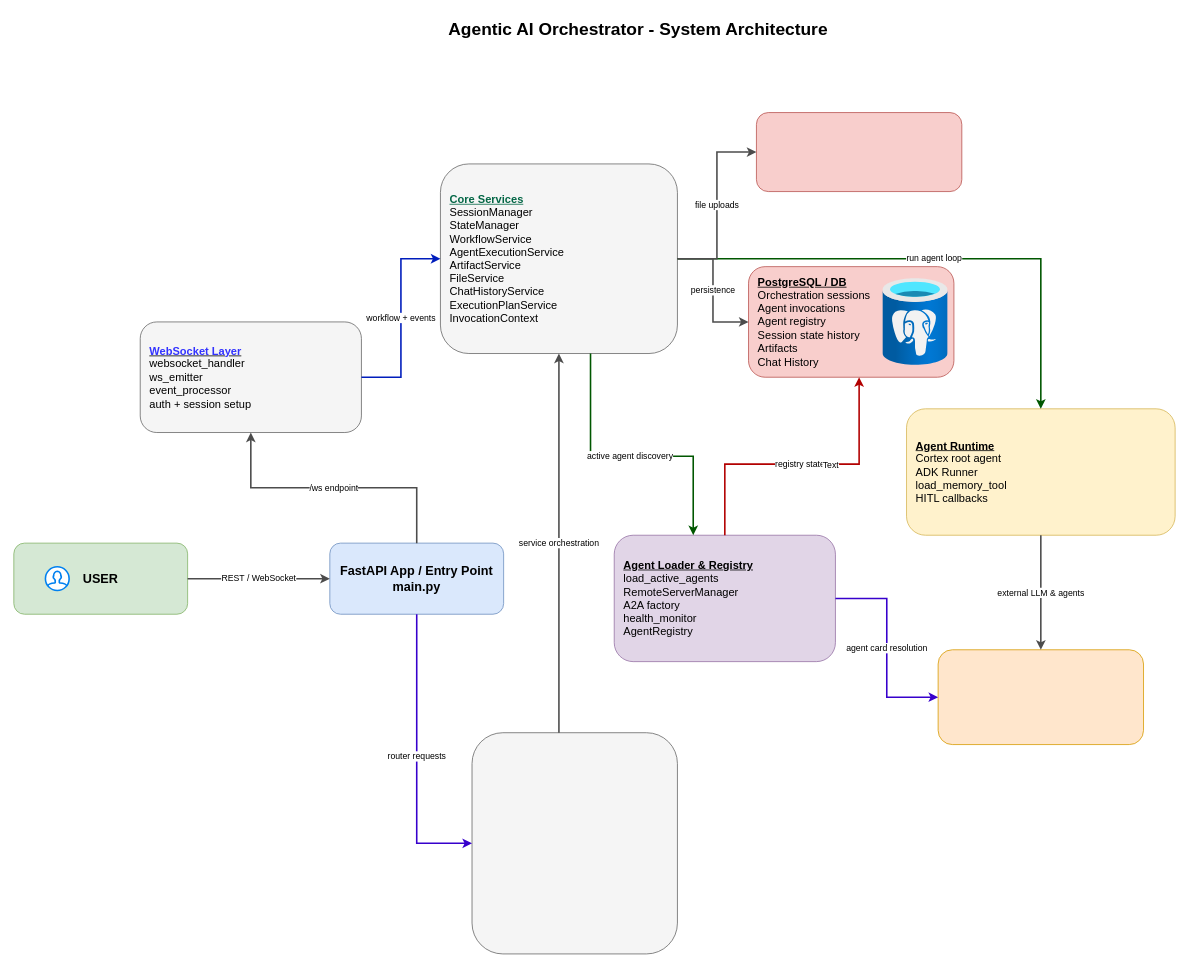
Image size: 1189x968. Some labels were removed from this diagram. The shapes that lost their labels are listed below. From the top down, each one's centre as x and y in pixels, then its label:
At point 859,152: "File Storage / Signed URLs Upload handling Secure retrieval".
At point 1040,697: "External Services Azure OpenAI Remote A2A Agents Agent-card discovery".
At point 574,843: "API Routers Agent Registry Upload Files Run Agent Admin Evaluation chat-history".
